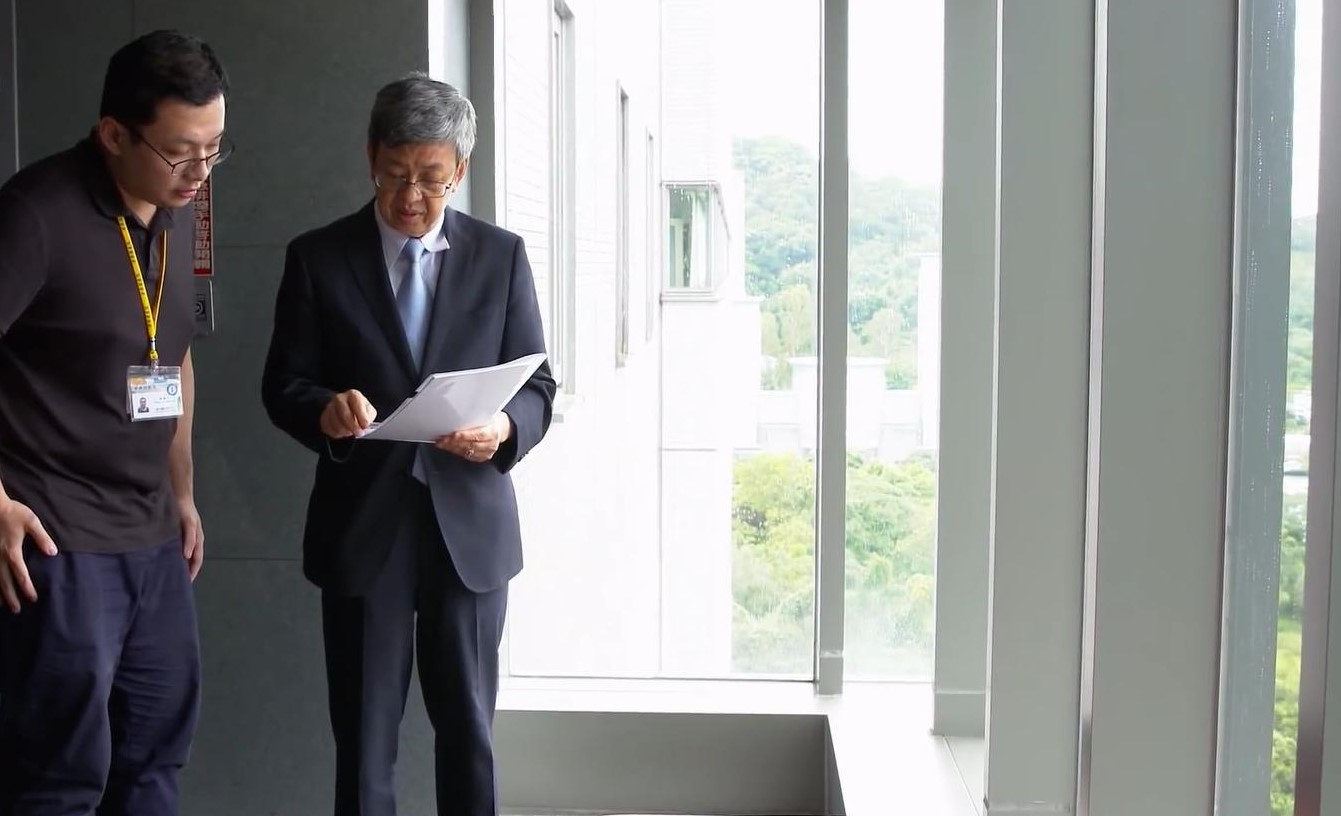without_mask: (380, 156, 448, 224), (146, 128, 198, 199)
